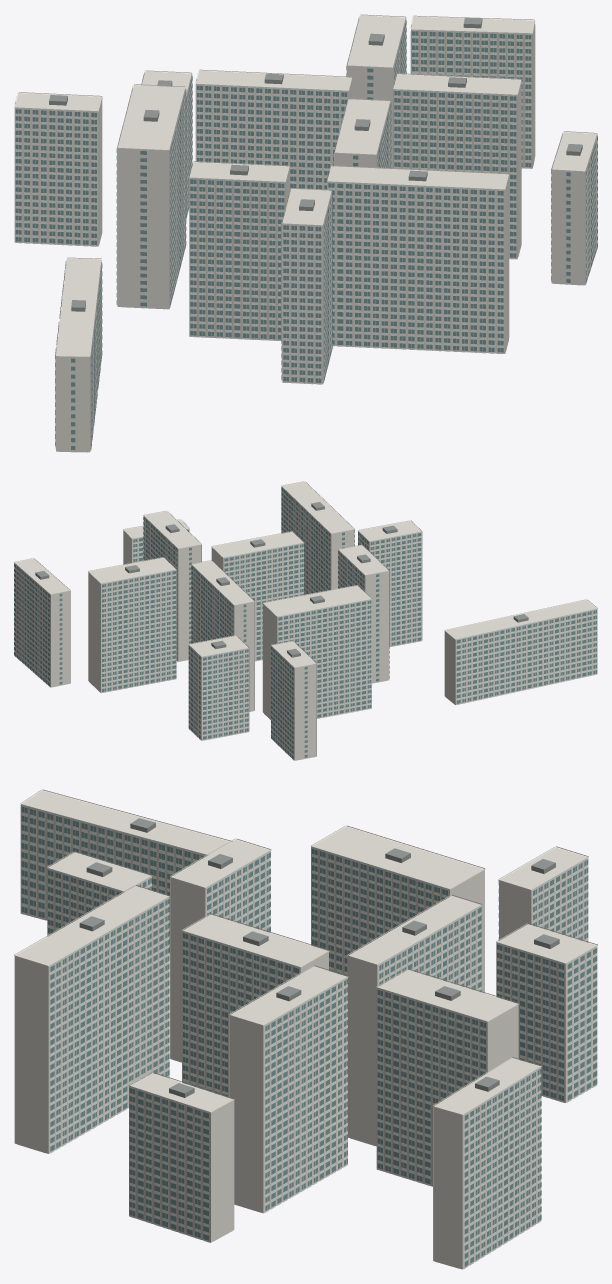
File: representative-a13877501.glb
3 views of the same model, one above another, from view 1: azimuth 30°, elevation 25°; view 2: azimuth 150°, elevation 25°; view 3: azimuth 270°, elevation 25° (orthographic). The views are drawn at different scales.
Parts seen in each view (by area): view 1: A13877501_wall001, A13877501_trim001, A13877501_glass001, A13877501_accent001, A13877501_roof001; view 2: A13877501_wall001, A13877501_trim001, A13877501_glass001, A13877501_roof001; view 3: A13877501_wall001, A13877501_trim001, A13877501_glass001, A13877501_accent001, A13877501_roof001.
Boxes of the visible parts, x1,y1,x2,y2 form: A13877501_wall001: (14, 15, 597, 452); A13877501_trim001: (14, 14, 597, 450); A13877501_glass001: (15, 20, 597, 449); A13877501_accent001: (90, 19, 597, 450); A13877501_roof001: (49, 18, 582, 311); A13877501_wall001: (14, 481, 597, 760); A13877501_trim001: (14, 481, 597, 760); A13877501_glass001: (14, 487, 596, 758); A13877501_roof001: (35, 502, 528, 657); A13877501_wall001: (14, 790, 597, 1269); A13877501_trim001: (14, 789, 597, 1268); A13877501_glass001: (21, 806, 597, 1266); A13877501_accent001: (20, 805, 565, 1260); A13877501_roof001: (79, 818, 559, 1097).
Bounding box in the file's own units: 263 × 63.5 × 175.
